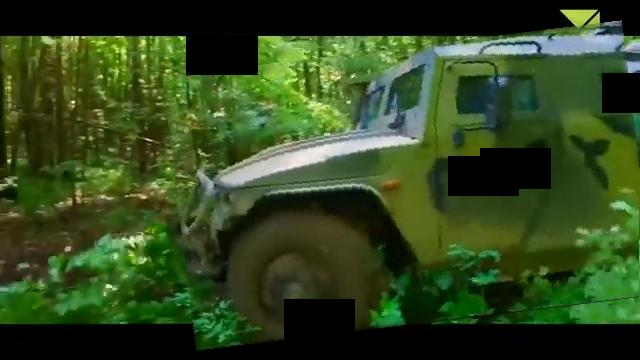MIL_HMMWV: (169, 34, 640, 338)
